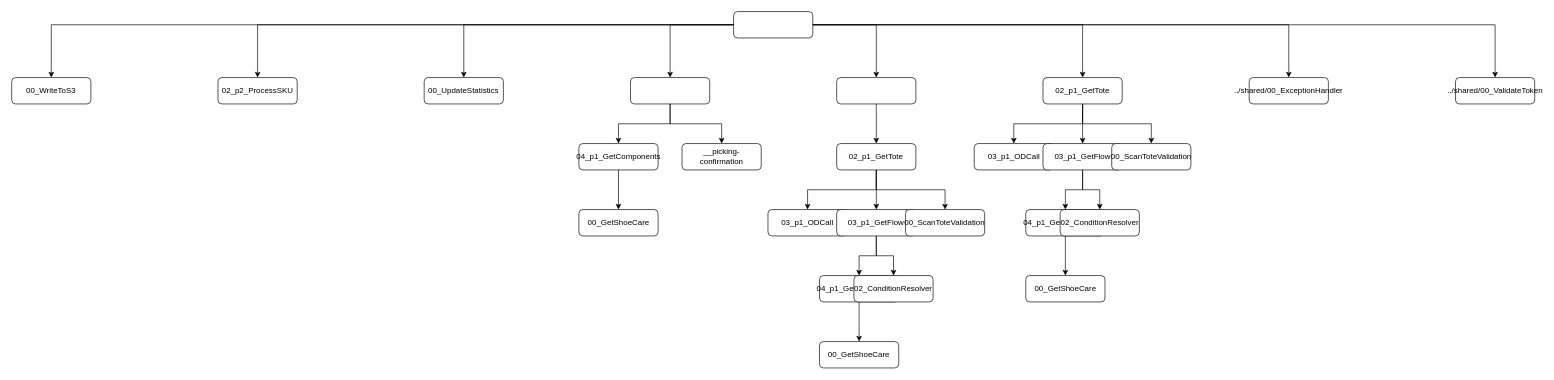
The diagram is 1554 pixels wide and 380 high, and some of its shapes have lost their labels. The box of each missing label's shape, as (x1, y1, x2, y2) in pixels:
01_p1_InspectionOrchestration: (733, 11, 813, 38)
02_p1_ChangeCondition: (836, 77, 916, 104)
02_p2_ProcessTote: (630, 77, 710, 104)
